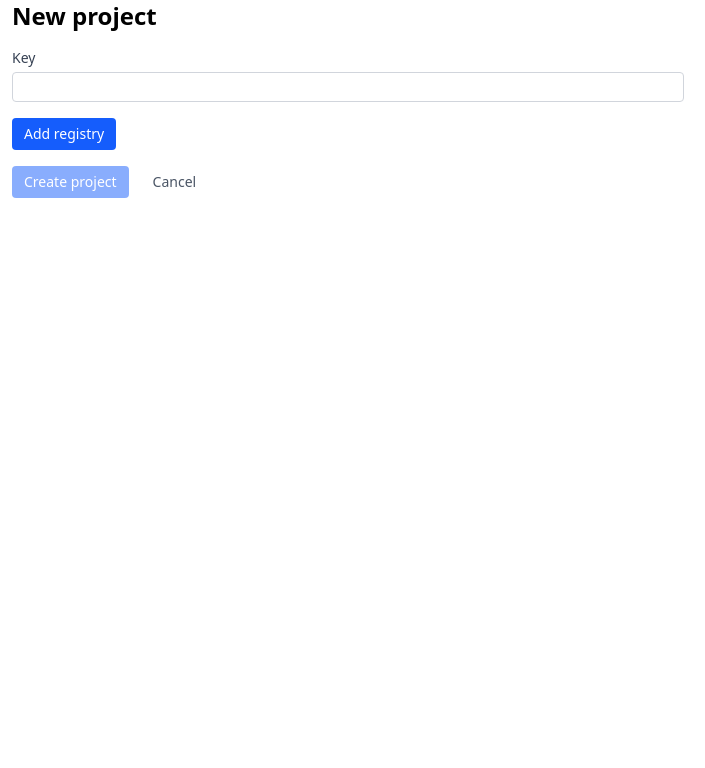
Test case: ProjectCreatePage › shows the server error message on a 400 invalid key
Type "my-new-app" into the field labelled "Key".
click(348, 87); type("my-new-app")  # box top-left (12, 72), bottom-right (684, 102)
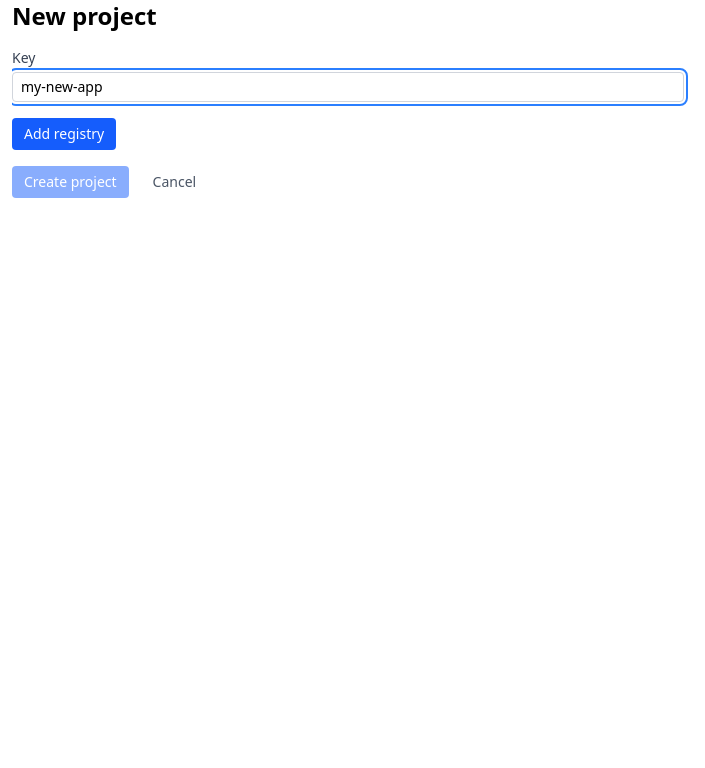
Click the button "Add registry".
click(64, 134)  # box top-left (12, 118), bottom-right (116, 150)
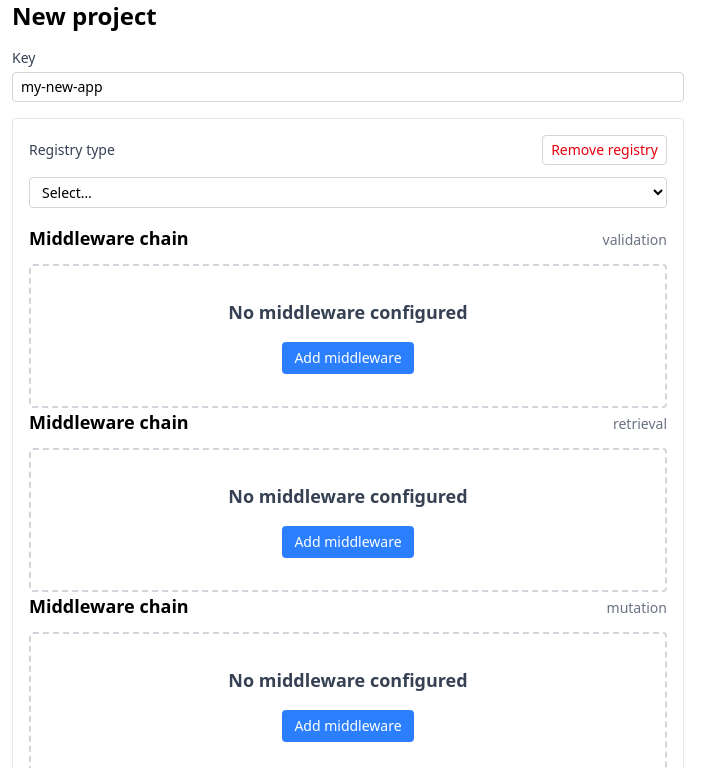
Select "npm" in the dropdown named "Registry type" at [348, 192], box top-left (29, 177), bottom-right (667, 208)
(page scrolled)
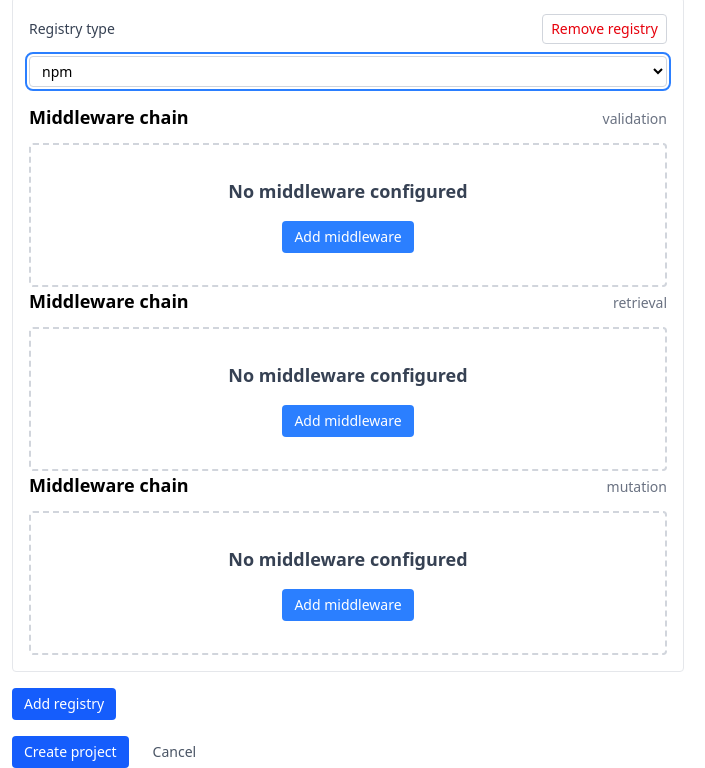
Click the button "Create project".
click(70, 752)  # box top-left (12, 736), bottom-right (129, 767)
(page scrolled)
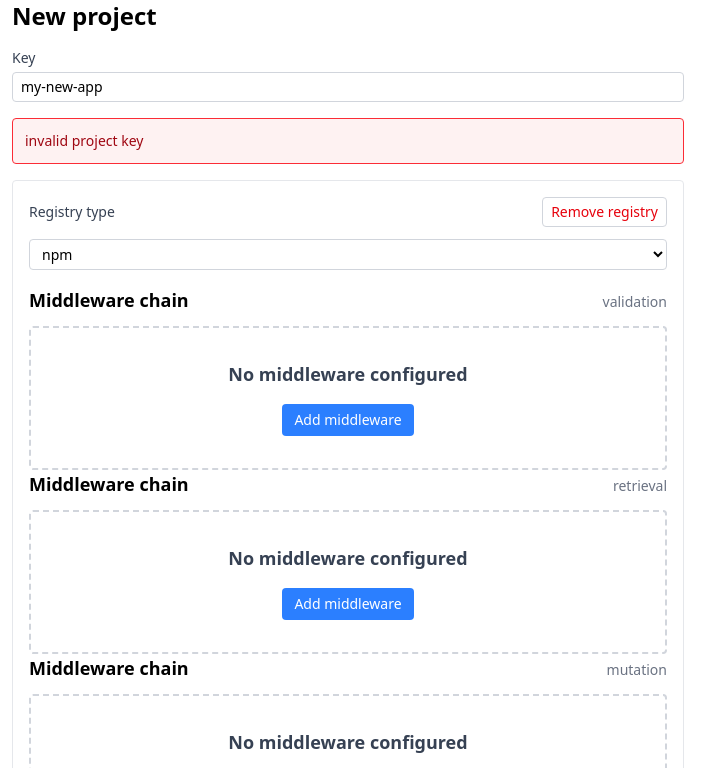
Now the message with test id "submit-error" reads "invalid project key", box top-left (25, 131), bottom-right (144, 150)
